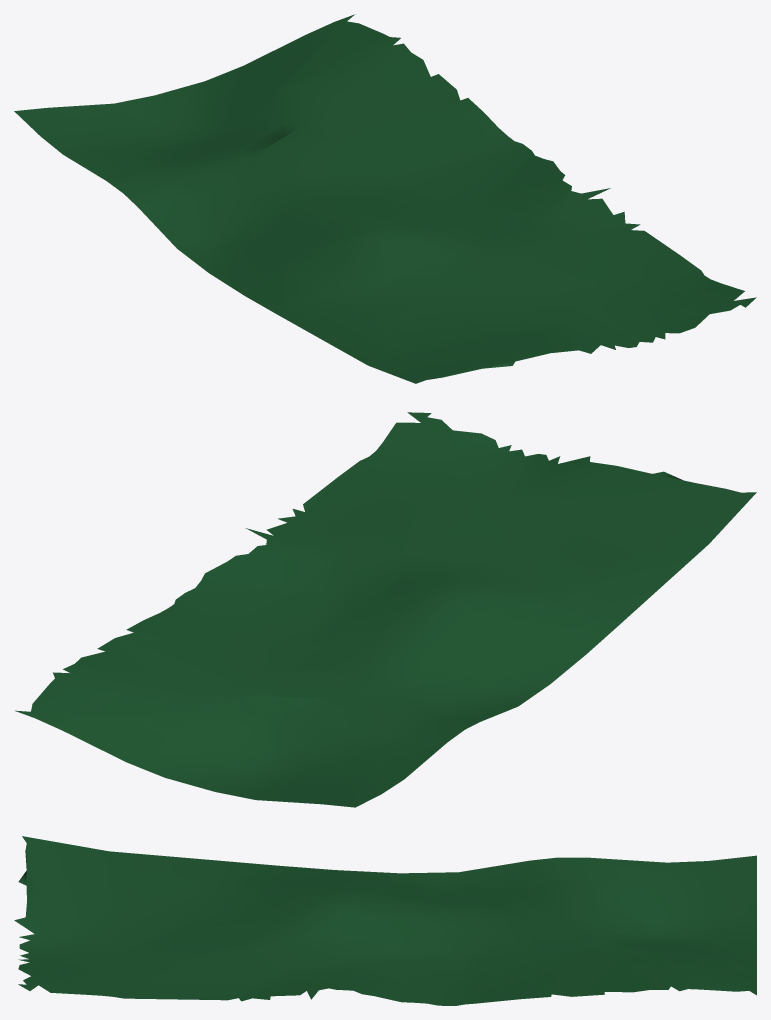
File: payo_land_x4_ym3_lod2.glb
3 renders of one model, top to bottom at view 1: azimuth 30°, elevation 25°; view 2: azimuth 150°, elevation 25°; view 3: azimuth 270°, elevation 25°, orthographic. The views are drawn at different scales.
Visible parts, largest first — view 1: payo_land_x4_ym3; view 2: payo_land_x4_ym3; view 3: payo_land_x4_ym3.
Boxes of the visible parts, x1,y1,x2,y2 form: payo_land_x4_ym3: [14, 14, 756, 383]; payo_land_x4_ym3: [15, 412, 756, 807]; payo_land_x4_ym3: [14, 836, 756, 1005].
Bounding box in the file's own units: 131 × 16.17 × 259.
